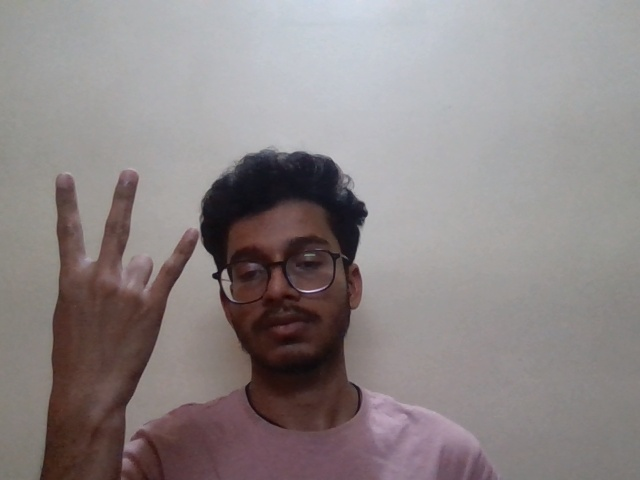why: (54, 158, 215, 400)
